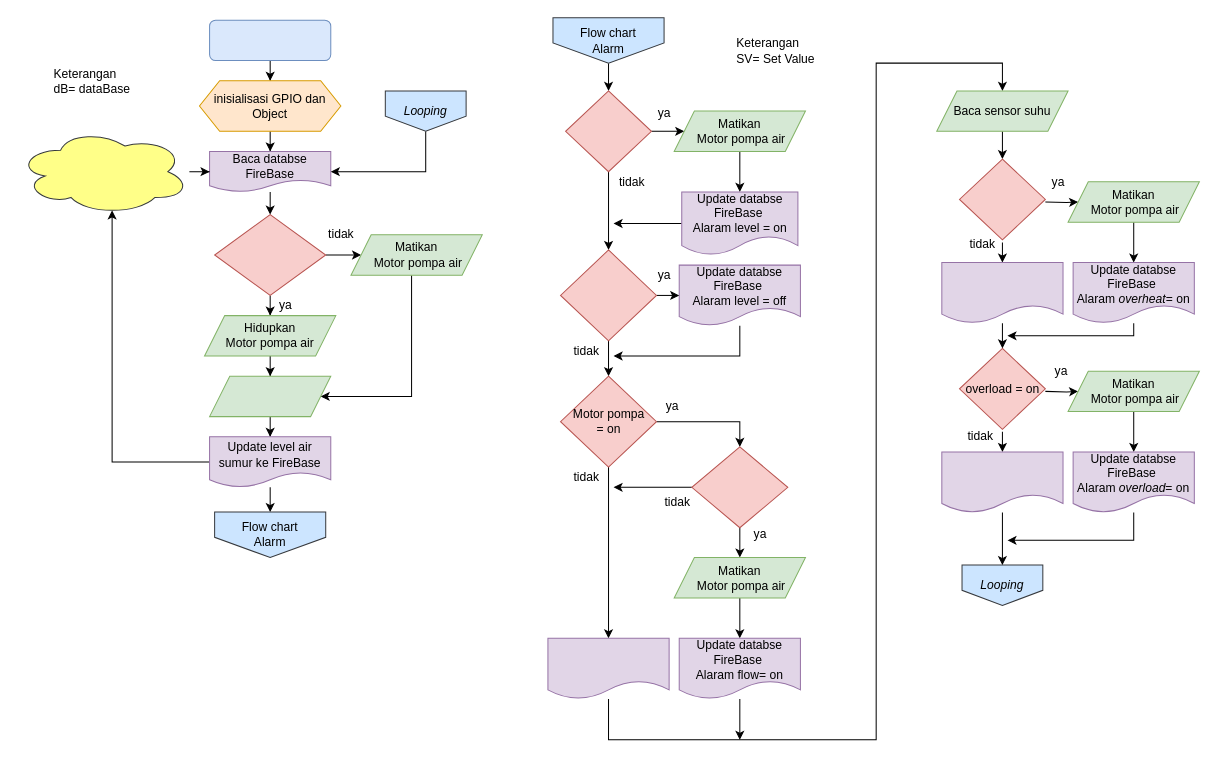
The diagram is 1217 pixels wide and 766 high, and some of its shapes have lost their labels. The box of each missing label's shape, as (x1, y1, x2, y2) in pixels:
Baca level air: (209, 375, 331, 417)
dB Motor = "on": (214, 214, 326, 295)
FireBase DataBase: (17, 128, 189, 215)
flow meter = 0: (691, 446, 788, 528)
Level <= SV bawah: (565, 90, 651, 172)
Level >= Level Reset: (560, 249, 656, 341)
mulai: (209, 19, 331, 61)
suhu >100: (958, 158, 1045, 240)
Update databse FireBase Alaram flow= off: (547, 637, 669, 699)
Update databse FireBase Alaram overheat = off: (941, 262, 1063, 323)
Update databse FireBase Alaram overload = off: (941, 451, 1063, 513)
